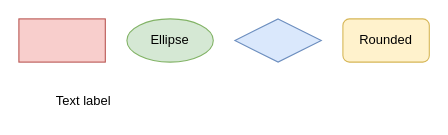
Some shapes in this 448 by 135 pixel diagram are drawn without their labels. Here are the shapes that lost their labels. From the top down, the centre of each, then its label:
At point (61, 40): "Rect".
At point (277, 40): "Diamond".
